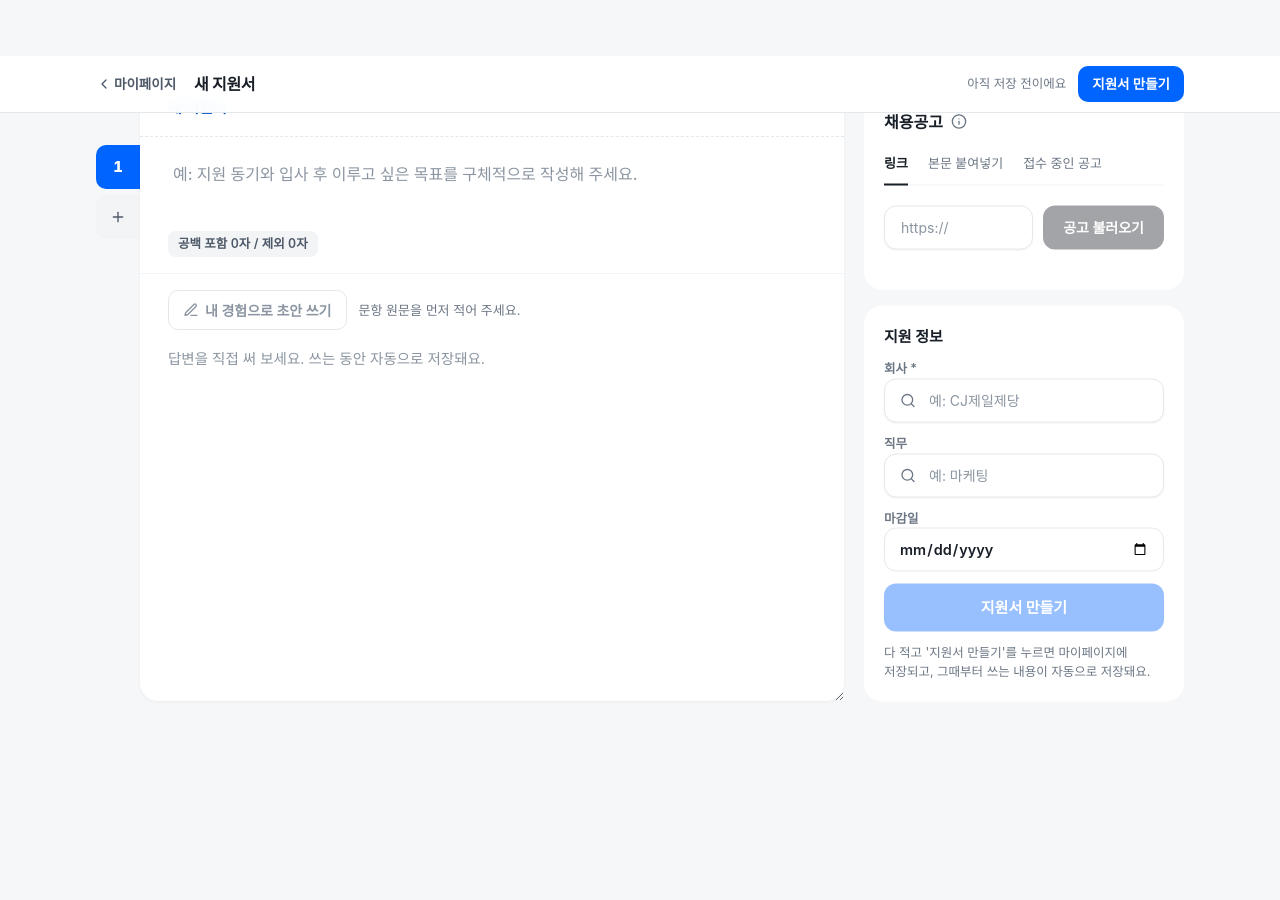
새 지원서 편집기 › 회사 없이 초안 쓰기를 누르면 회사부터 적으라고 알린다
Type "지원 동기" into the text box named "문항 원문" at (492, 187), box [168,156,816,218]
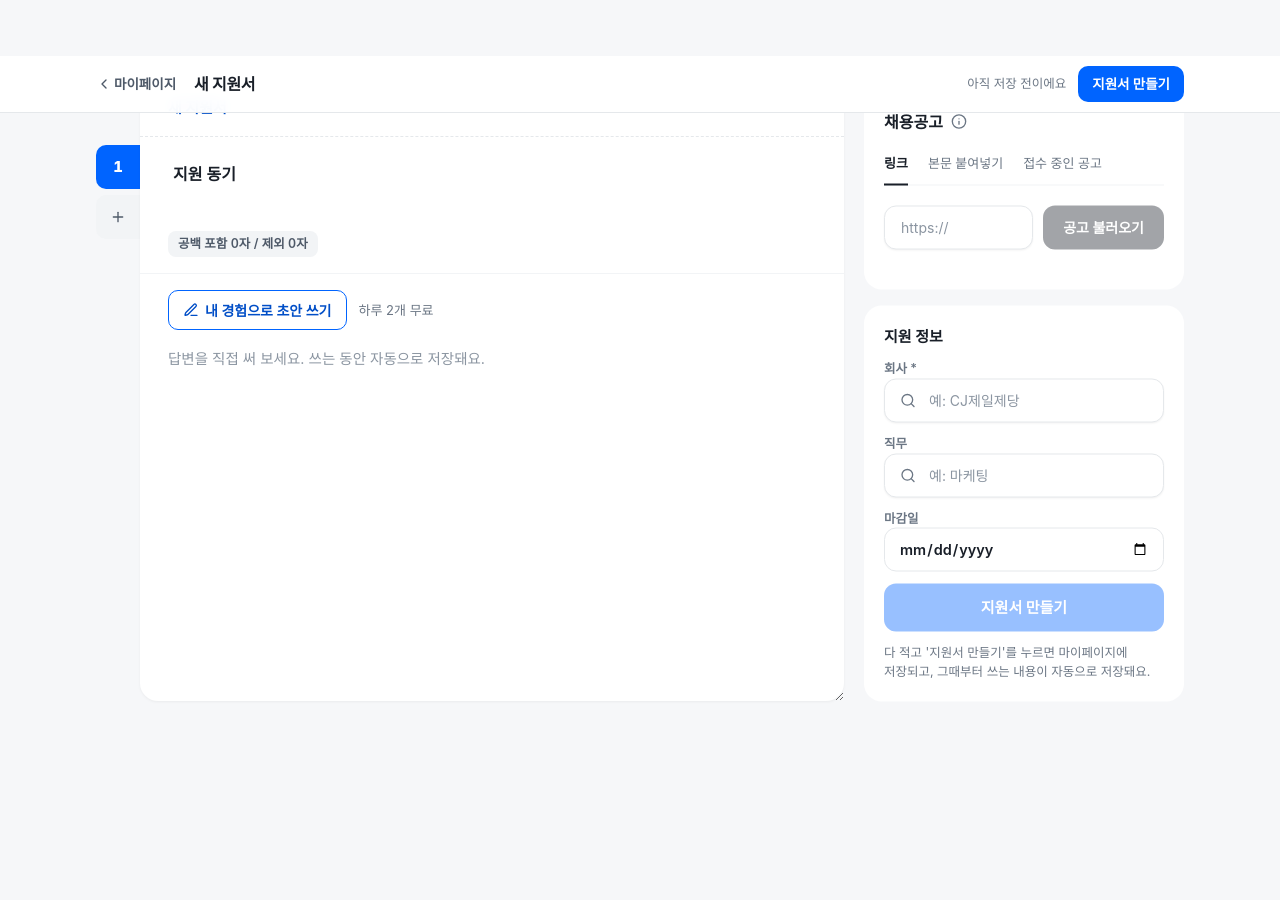
Click the button "내 경험으로 초안 쓰기" at (257, 310), box [168,290,346,330]
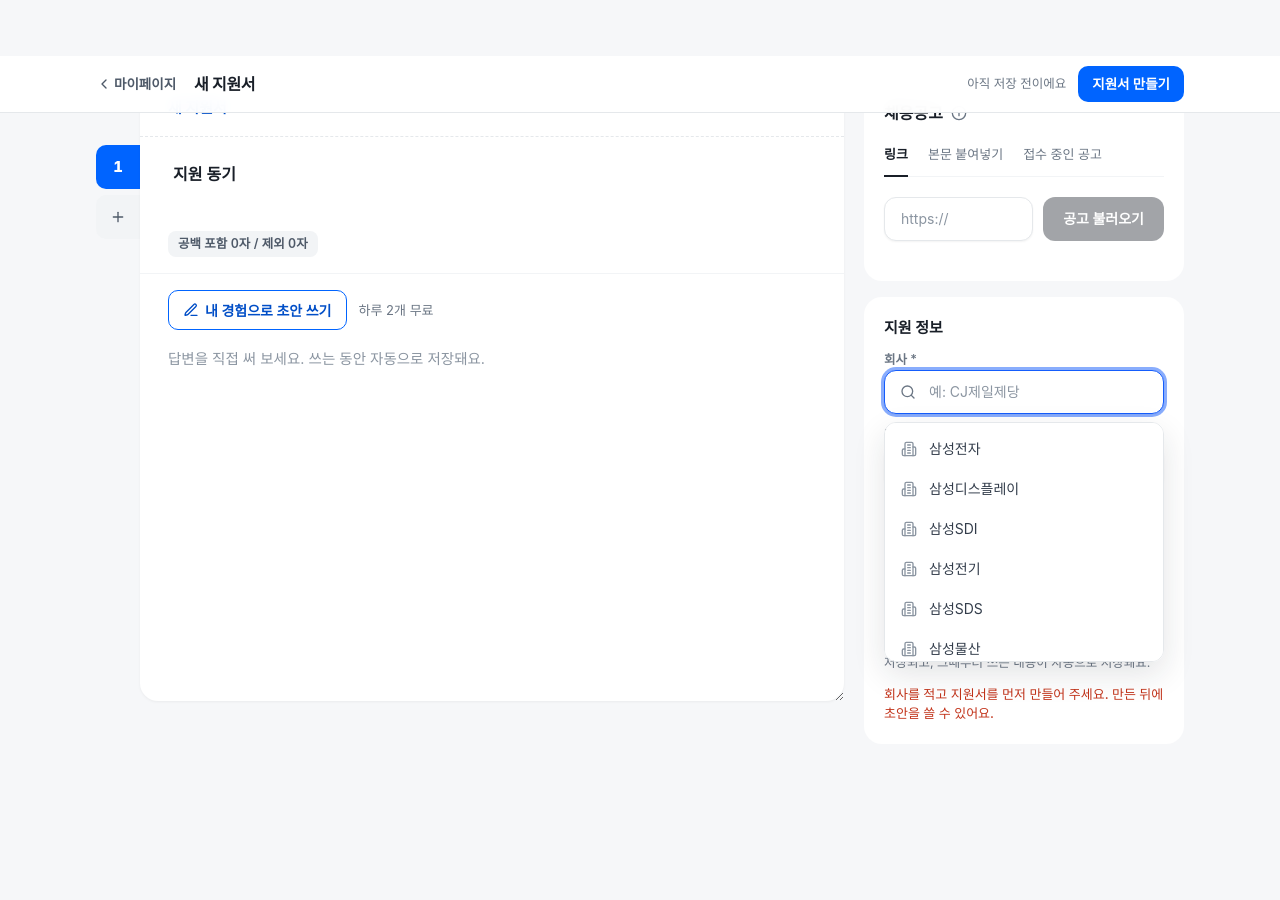
expect the text "회사를 적고 지원서를 먼저 만들어 주세요. 만든 뒤에 초안을 쓸 수 있어요." is shown: met, box [884,684,1164,724]
